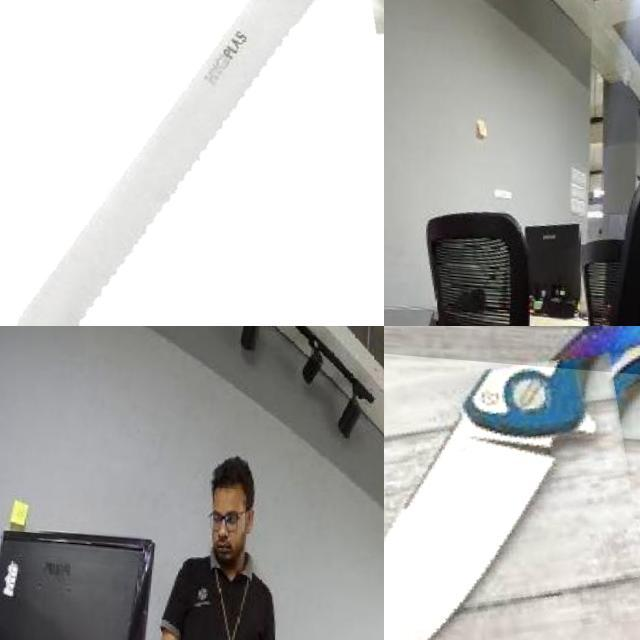-: (0, 0, 384, 326), (384, 342, 640, 640)
